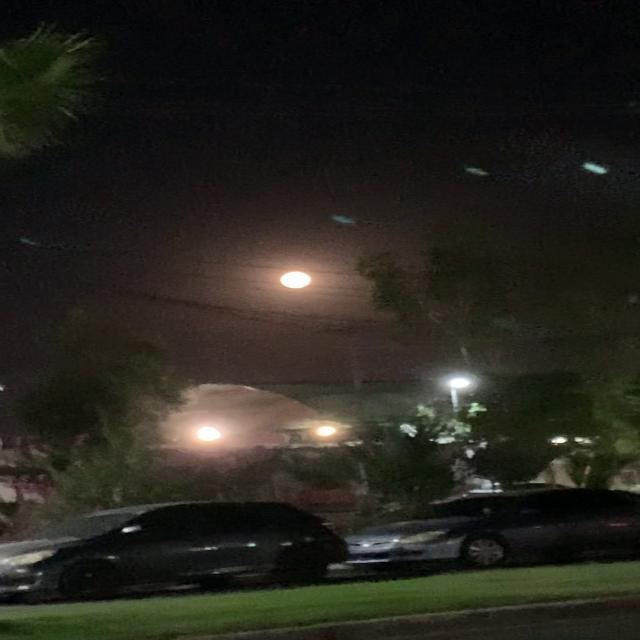moon: (274, 262, 329, 295)
